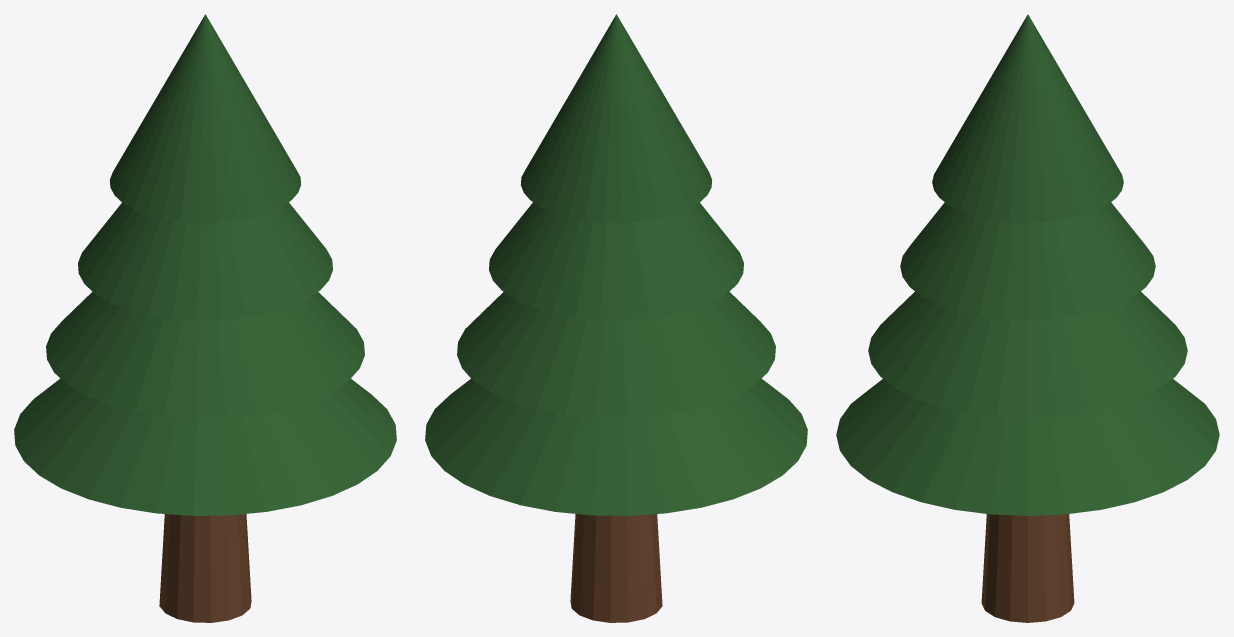
File: obstacle_tree_1.fbx
3 views of the same model, side by side, from view 1: azimuth 30°, elevation 25°; view 2: azimuth 150°, elevation 25°; view 3: azimuth 270°, elevation 25° (orthographic).
Parts seen in each view (by area): view 1: Cylinder; view 2: Cylinder; view 3: Cylinder.
Part boxes in pixels (x1=…): Cylinder: x1=14, y1=14, x2=396, y2=622; Cylinder: x1=425, y1=14, x2=807, y2=622; Cylinder: x1=836, y1=14, x2=1219, y2=622.
Size of the model in its own units: 413 by 700 by 413.
